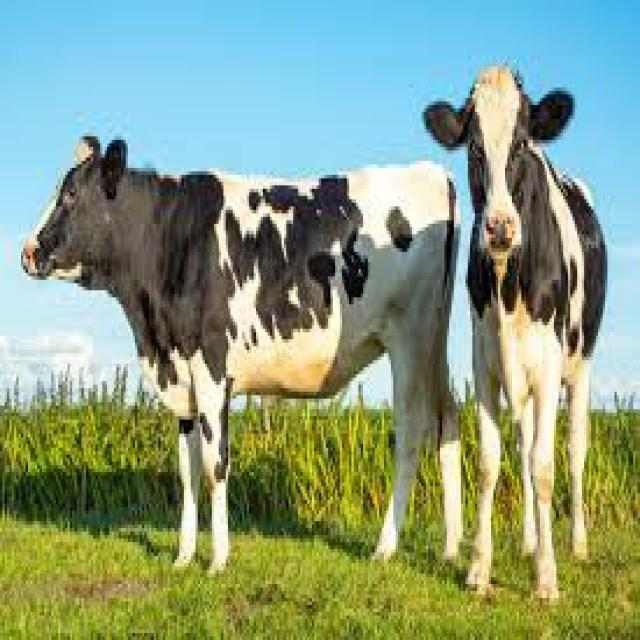cow: (23, 150, 401, 450), (438, 70, 574, 336)
